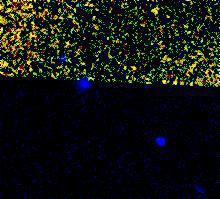star: (141, 0, 171, 30)
